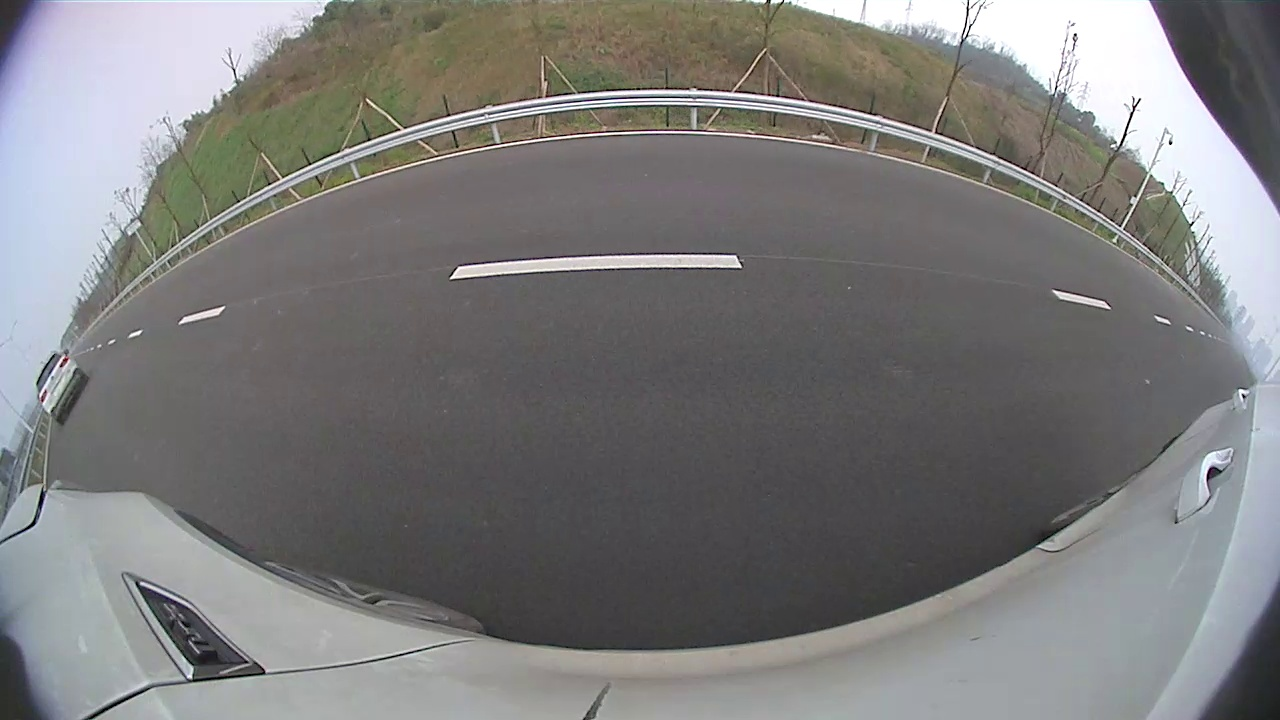car: (36, 349, 89, 425)
